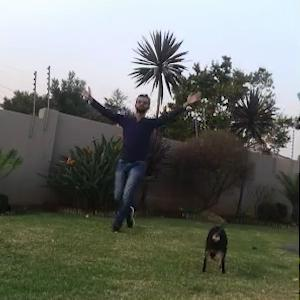takeoff: (93, 93, 210, 221)
